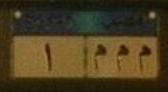1: (43, 42, 55, 73)
meem: (89, 42, 109, 72), (113, 43, 132, 71), (135, 44, 151, 71)
